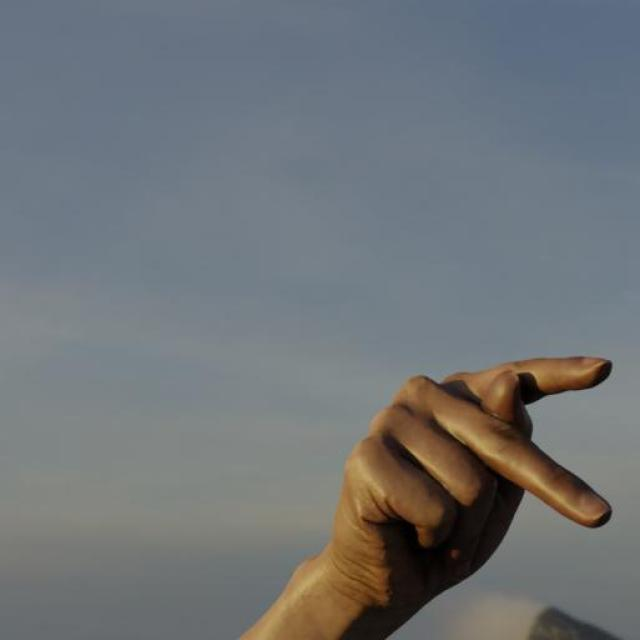P: (313, 352, 616, 626)
